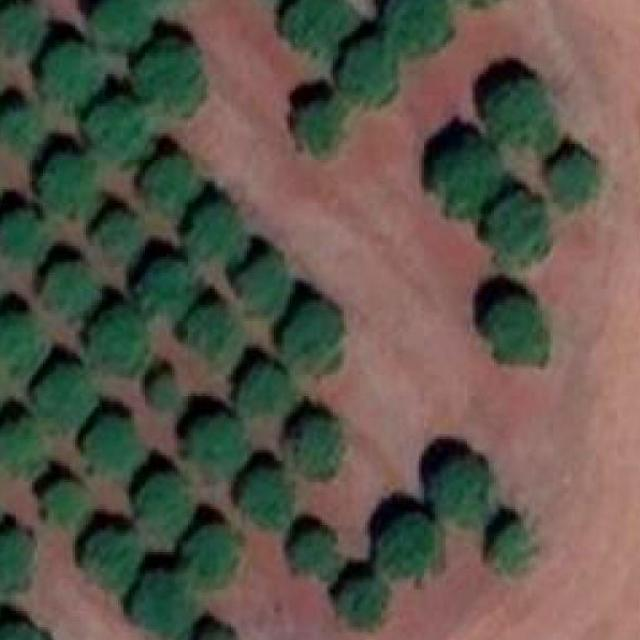Tree: (483, 298, 553, 368), (279, 303, 342, 378), (432, 138, 494, 214), (488, 192, 548, 268), (430, 461, 497, 525), (497, 85, 562, 149), (140, 42, 198, 112), (131, 573, 193, 636), (80, 416, 140, 480), (379, 518, 438, 582), (45, 153, 97, 220), (132, 474, 189, 534), (188, 201, 245, 260), (88, 307, 140, 370), (37, 262, 94, 319), (43, 45, 97, 104), (91, 98, 145, 156), (36, 368, 89, 427), (295, 414, 344, 477), (140, 158, 198, 211), (185, 525, 236, 584), (84, 531, 140, 584), (238, 469, 290, 526), (387, 0, 454, 42), (193, 421, 245, 475), (295, 104, 347, 158), (295, 0, 346, 55), (183, 305, 234, 359), (347, 40, 390, 104), (86, 0, 150, 42), (238, 259, 290, 310), (553, 153, 601, 206), (142, 260, 193, 308), (242, 364, 288, 416), (0, 420, 46, 471), (0, 208, 46, 257), (293, 530, 339, 576), (0, 530, 35, 589), (0, 312, 40, 363), (344, 577, 386, 625), (496, 525, 537, 574), (41, 482, 84, 525), (0, 110, 38, 156), (91, 210, 132, 252), (0, 2, 38, 45), (150, 375, 178, 407), (0, 624, 43, 640)
